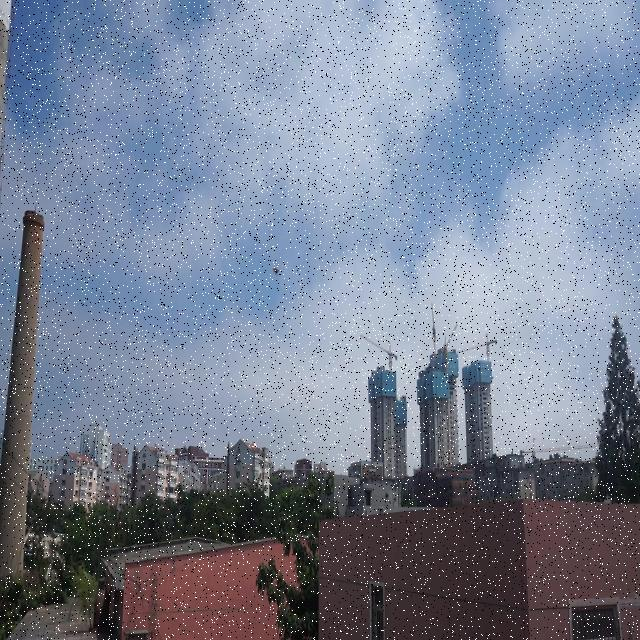UAV: (272, 265, 281, 277)
